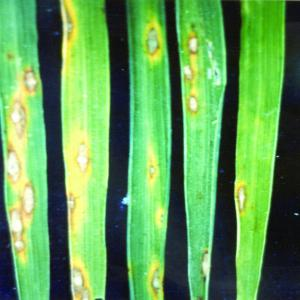Rice_Blast: (68, 130, 110, 179), (131, 255, 176, 299), (2, 203, 32, 258), (3, 96, 40, 140), (135, 138, 163, 193), (194, 226, 216, 293), (60, 6, 98, 44), (1, 142, 29, 184), (136, 21, 165, 61), (231, 177, 257, 219), (181, 25, 210, 61), (16, 62, 47, 94), (66, 263, 92, 300), (13, 182, 43, 214), (147, 204, 170, 234), (178, 58, 203, 84), (182, 86, 203, 114), (63, 193, 88, 216)
